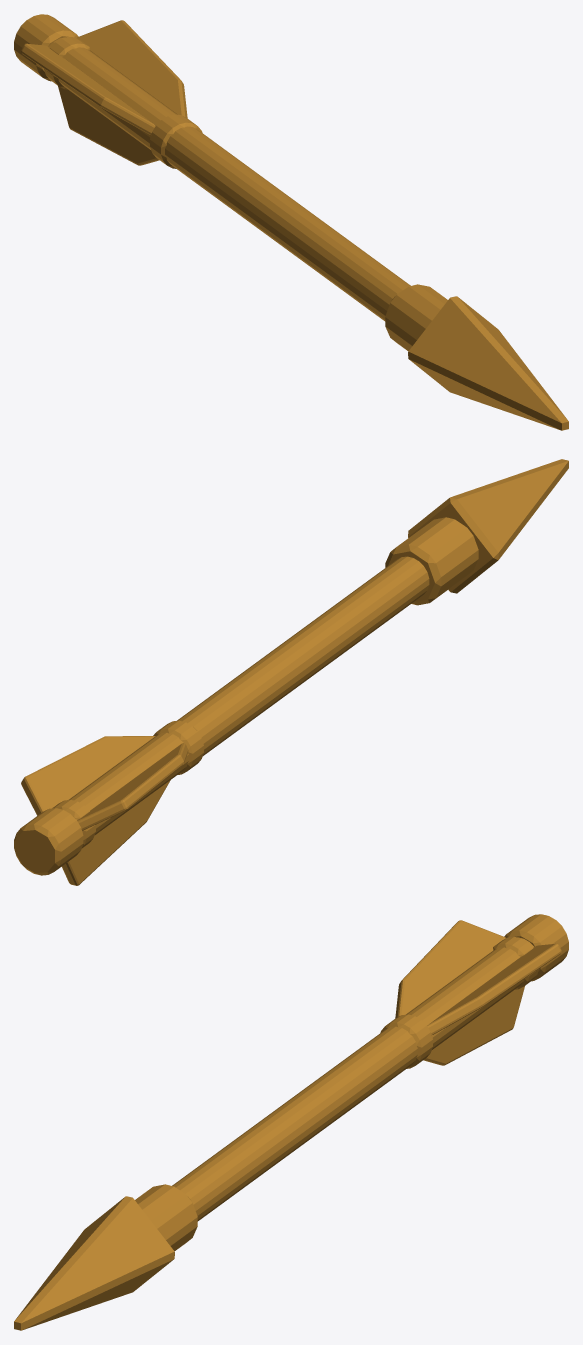
Rendered from AuxiliaCrossbowBolt.fbx.
3 renders of one model, top to bottom at view 1: azimuth 30°, elevation 25°; view 2: azimuth 150°, elevation 25°; view 3: azimuth 330°, elevation 25°, orthographic.
Visible parts, largest first — view 1: AuxiliaCrossbowBolt_GameExport; view 2: AuxiliaCrossbowBolt_GameExport; view 3: AuxiliaCrossbowBolt_GameExport.
Boxes of the visible parts, box(x1,y1,x2,y2) form: AuxiliaCrossbowBolt_GameExport: box(14, 14, 568, 430); AuxiliaCrossbowBolt_GameExport: box(14, 459, 568, 885); AuxiliaCrossbowBolt_GameExport: box(14, 914, 568, 1330).
Bounding box in the file's own units: 1.44 × 12.46 × 1.42.
